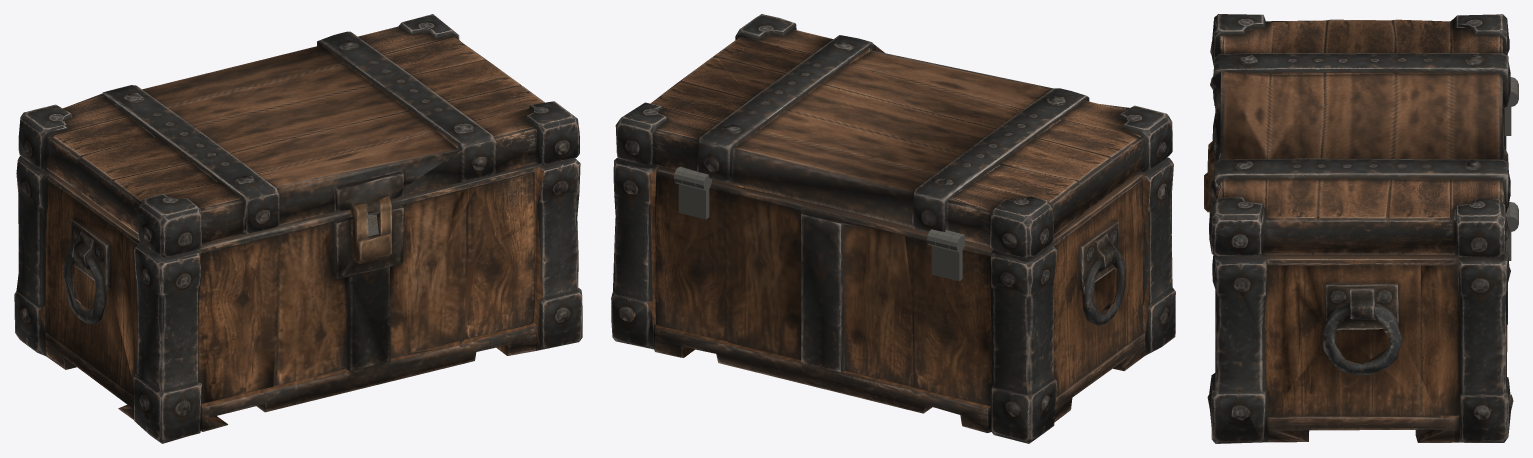
Rendered from Hideout_Storage_Chest_Animated.fbx.
The picture shows the model from 3 angles, left to right: view 1: azimuth 30°, elevation 25°; view 2: azimuth 150°, elevation 25°; view 3: azimuth 270°, elevation 25°; orthographic projection.
Visible parts, largest first — view 1: Body, Lid; view 2: Body, Lid; view 3: Lid, Body.
Part boxes in pixels (x1,y1,x2,y2): Body: (14,156,582,443); Lid: (18,14,579,263); Body: (611,157,1175,443); Lid: (615,14,1172,259); Lid: (1204,14,1518,257); Body: (1205,68,1518,443).
Size of the model in its own units: 189 by 95.05 by 117.
3 materials, 2 textured.
